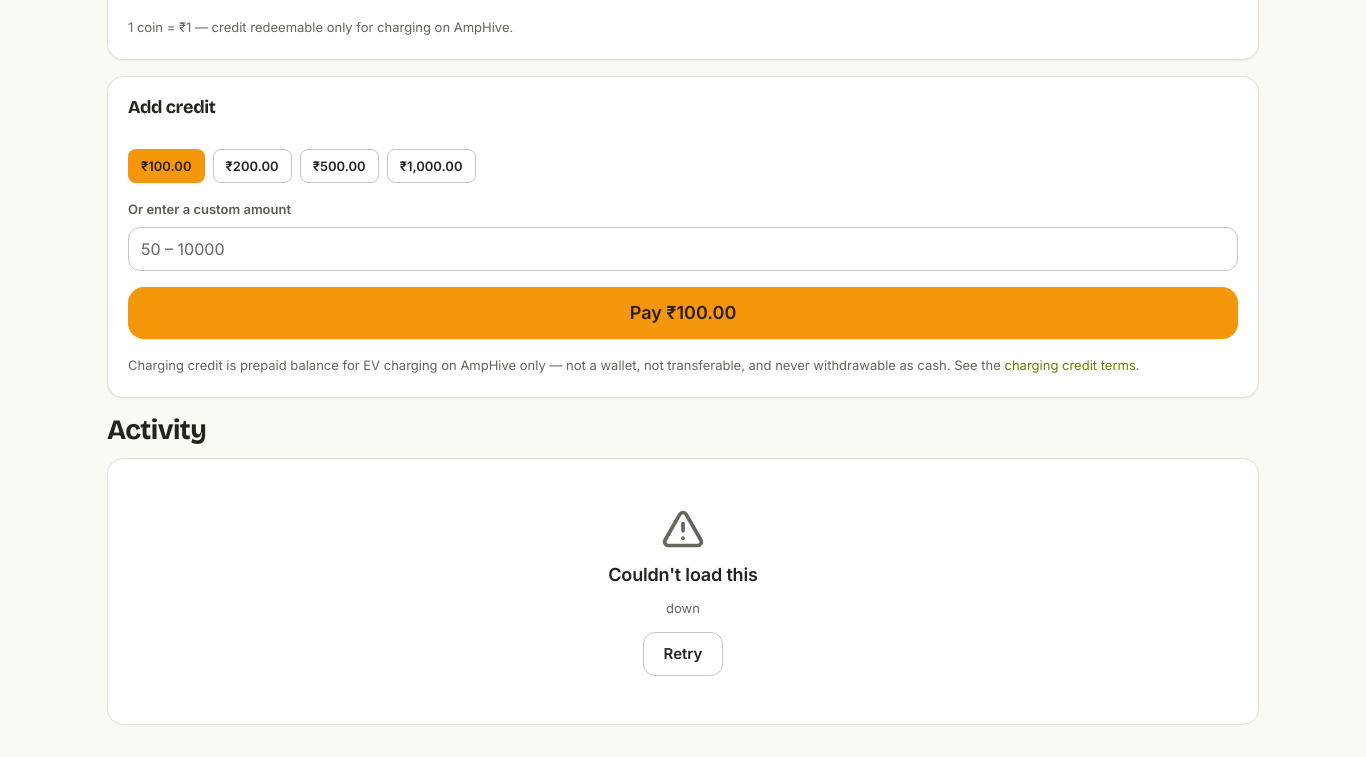
Test: ledger › shows a retryable error instead of an empty state on failure
(page scrolled)
Check: the heading "Couldn't load this" is shown, box [608,563,758,586]
Click the button "Retry" at (683, 654), box [643,632,723,676]
(page scrolled)
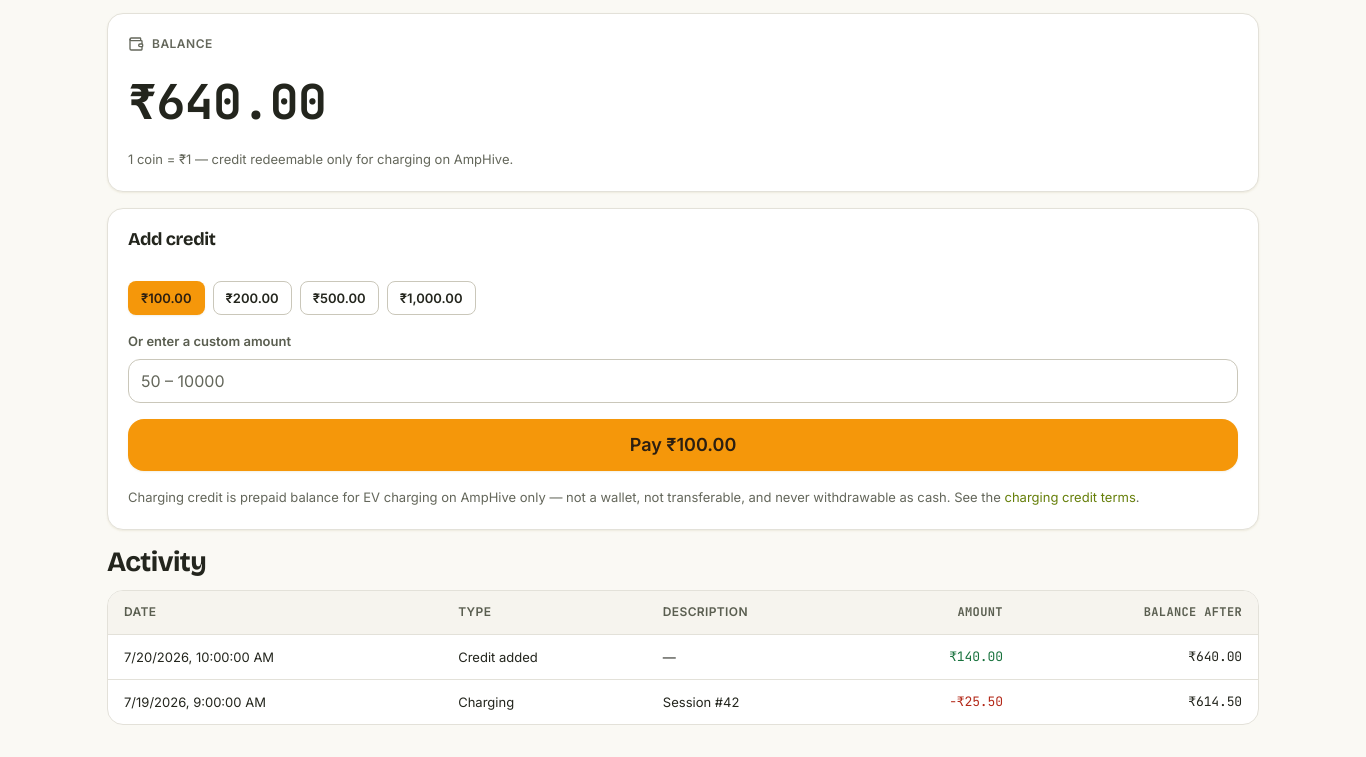
Check: the text "Credit added" is shown, box [442,634,647,679]
